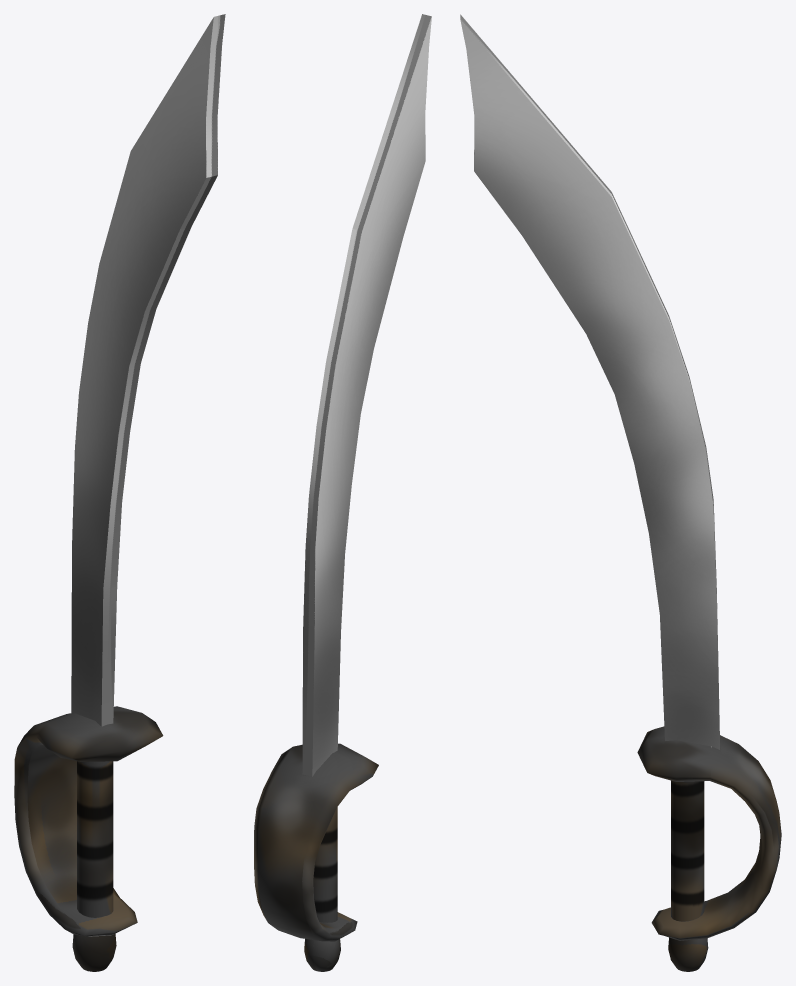
Rendered from cutlass.fbx.
3 renders of one model, left to right at view 1: azimuth 30°, elevation 25°; view 2: azimuth 150°, elevation 25°; view 3: azimuth 270°, elevation 25°, orthographic. The views are drawn at different scales.
Parts seen in each view (by area): view 1: Box002; view 2: Box002; view 3: Box002.
Boxes of the visible parts, box(x1,y1,x2,y2) form: Box002: box(14, 14, 225, 971); Box002: box(254, 14, 431, 971); Box002: box(460, 14, 781, 971).
Bounding box in the file's own units: 81.23 × 748 × 228.
1 material, 1 textured.
